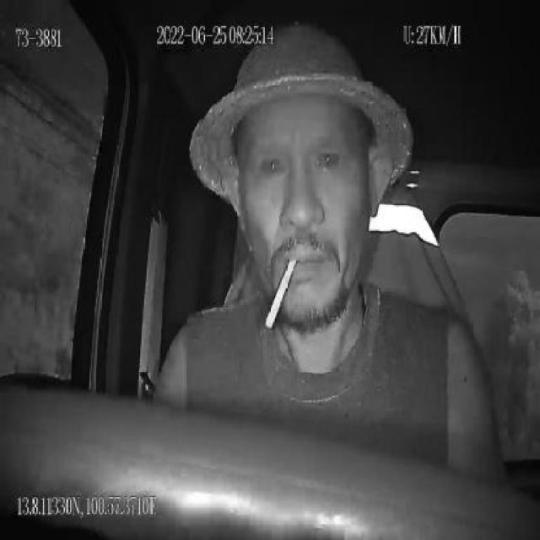smoking: (267, 255, 297, 338)
